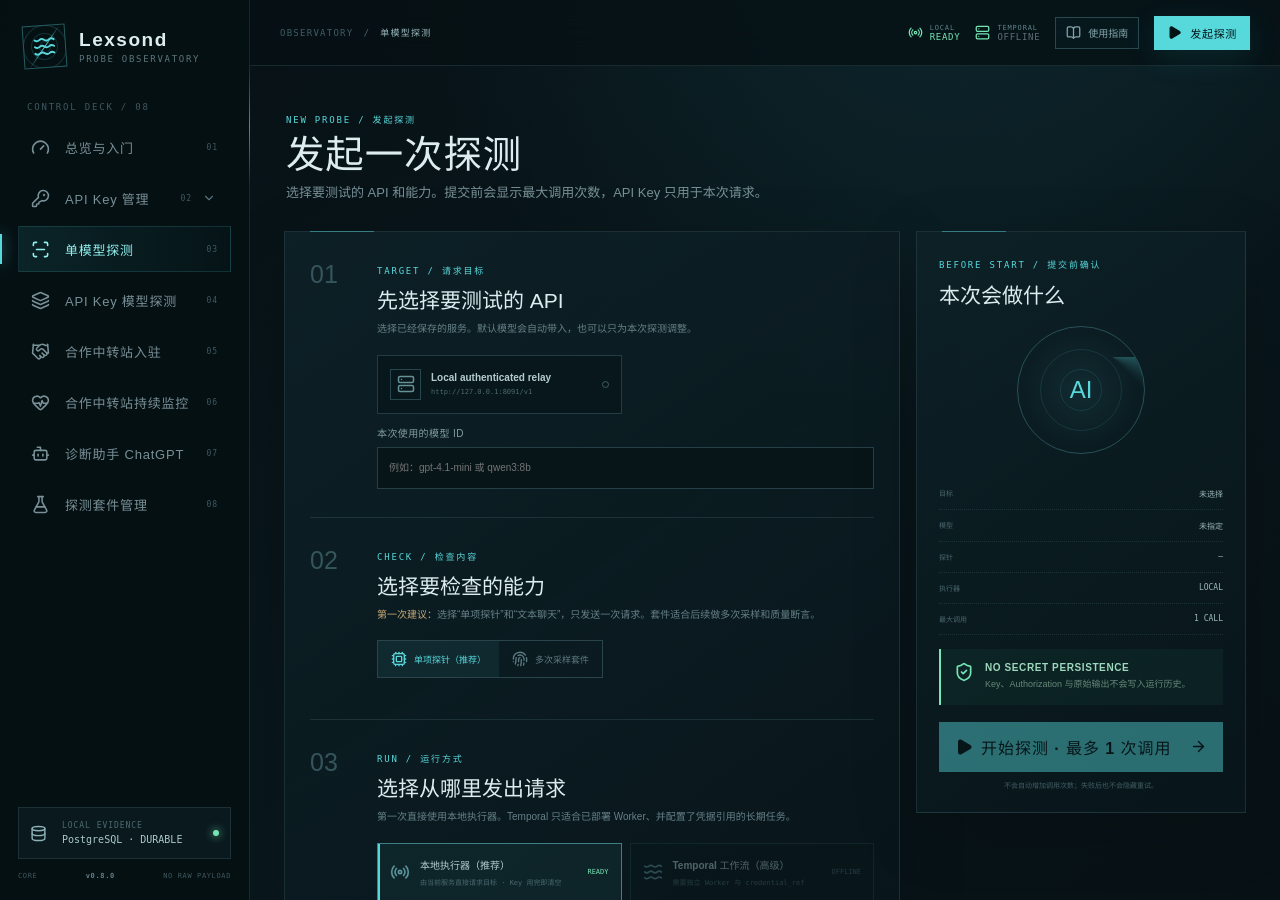
Test case: observatory console › clears a run key on failure and never stores it in mutation variables
Click the radio button labelled "Local authenticated relay http://127.0.0.1:8091/v1".
click(499, 384)  # box [377, 355, 622, 414]
(page scrolled)
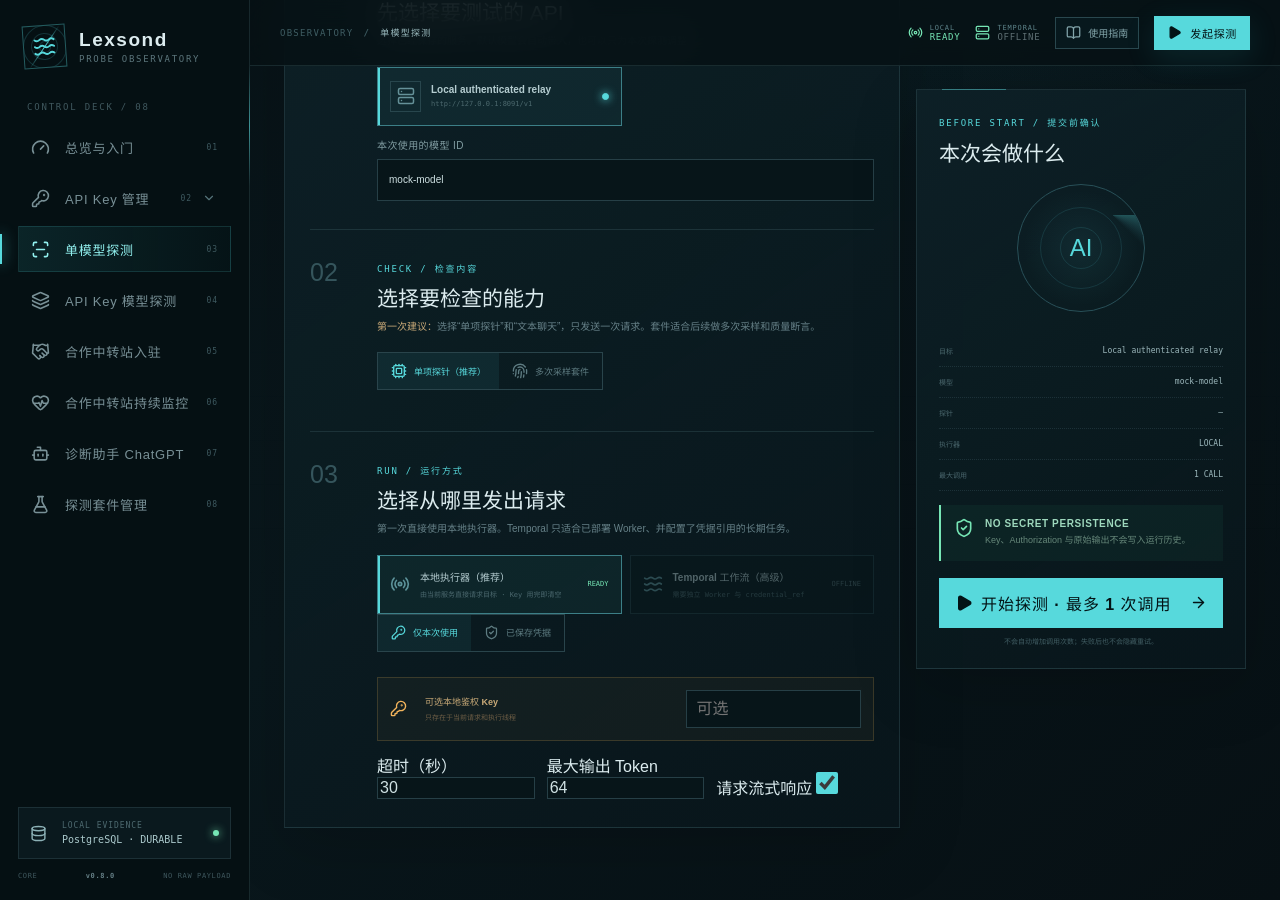
Expected: the field labelled "本次使用的模型 ID" holds "mock-model", [377, 159, 874, 201]
Type "test-browser-transient-key" into the password field labelled "可选本地鉴权 Key 只存在于当前请求和执行线程".
click(773, 709); type("test-browser-transient-key")  # box [686, 690, 861, 728]
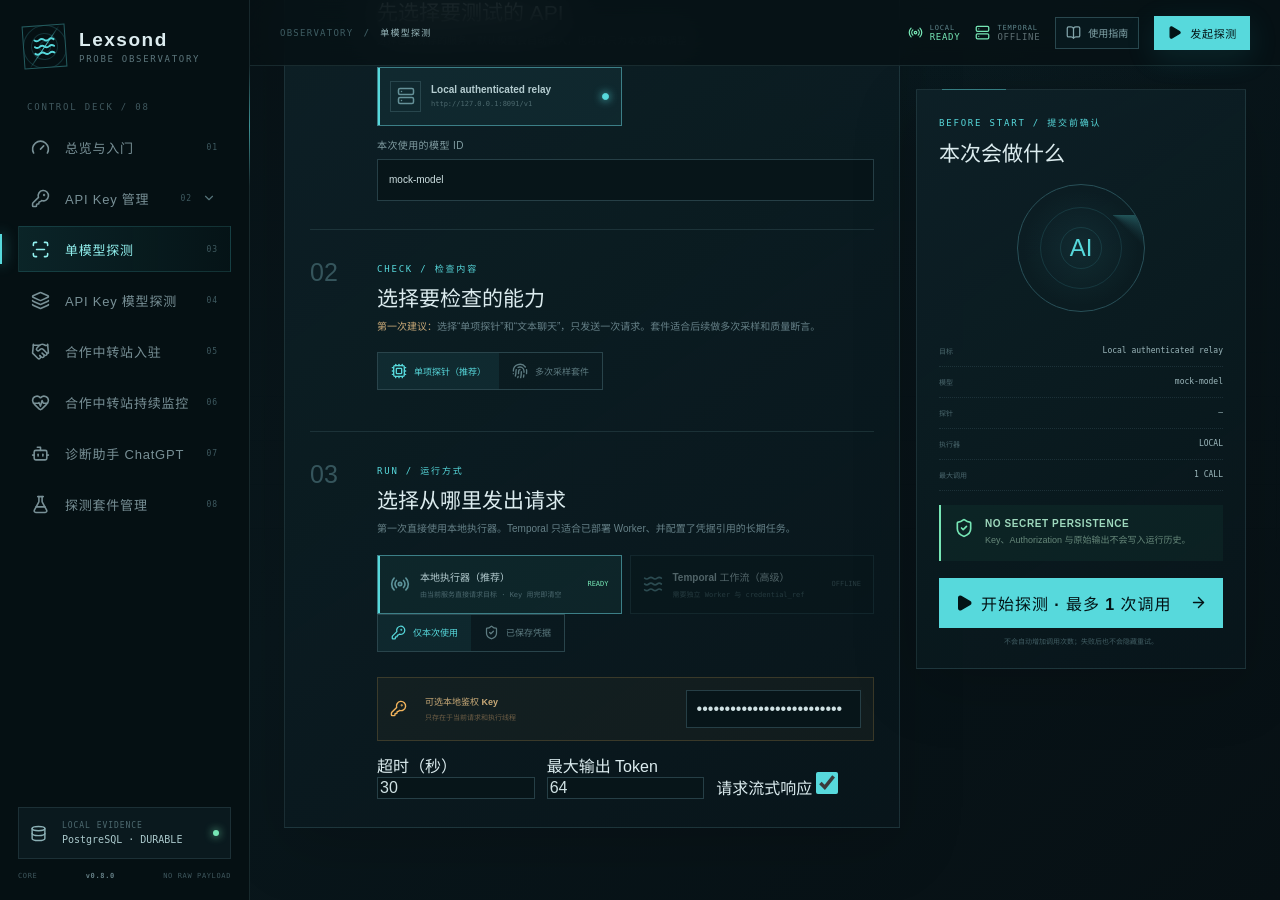
Click the button "开始探测 · 最多 1 次调用".
click(1081, 602)  # box [939, 578, 1223, 628]
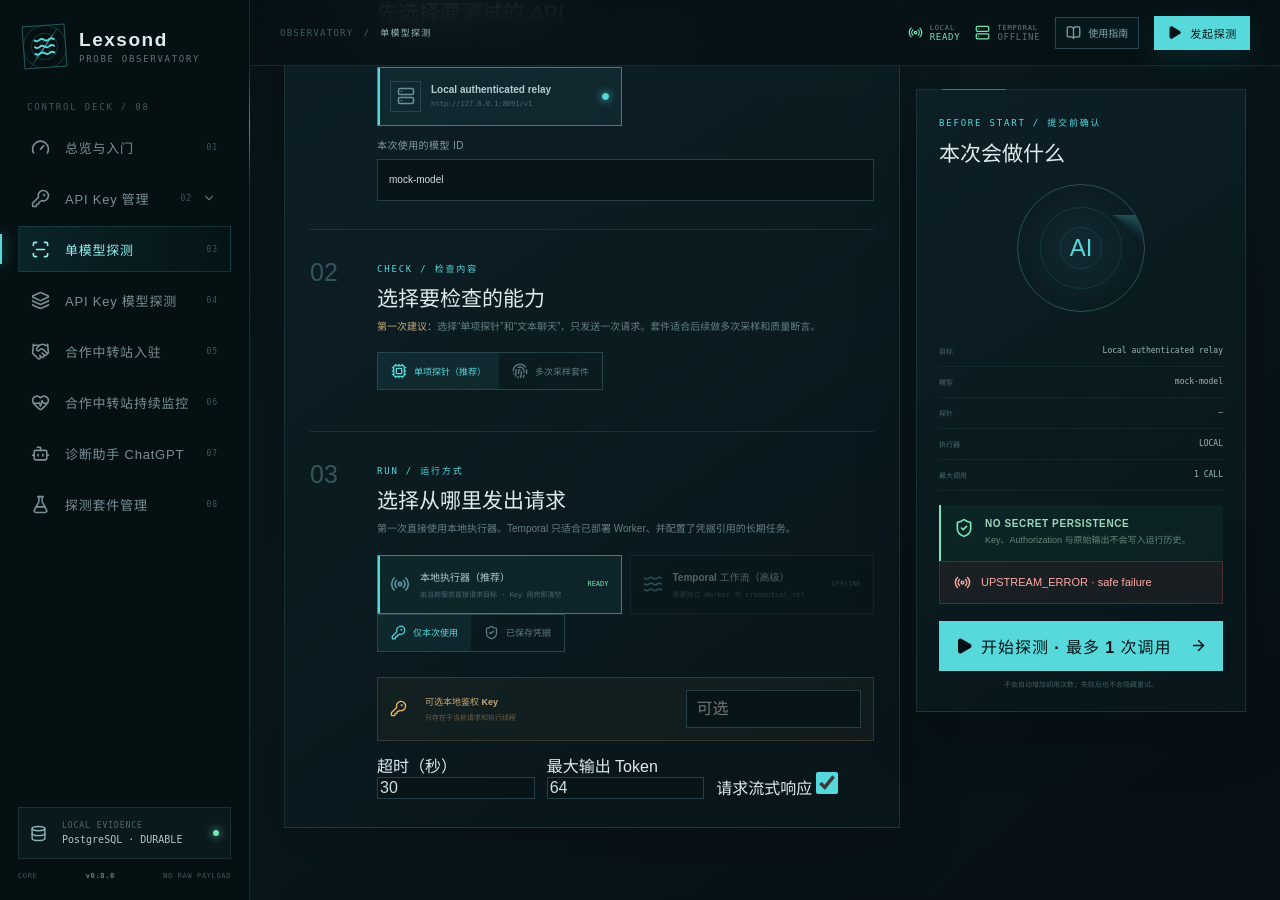
Expected: the text "UPSTREAM_ERROR · safe failure" is shown, [981, 574, 1152, 590]
Expected: the password field labelled "可选本地鉴权 Key 只存在于当前请求和执行线程" is empty, [686, 690, 861, 728]
